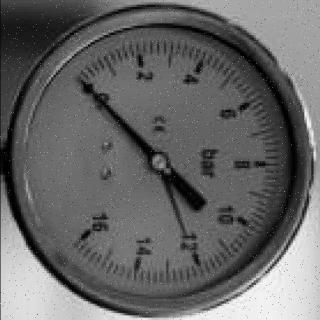gauge: (0, 0, 320, 320), (58, 205, 110, 255), (71, 70, 100, 102), (148, 151, 176, 177), (71, 74, 93, 94), (177, 223, 190, 242)
